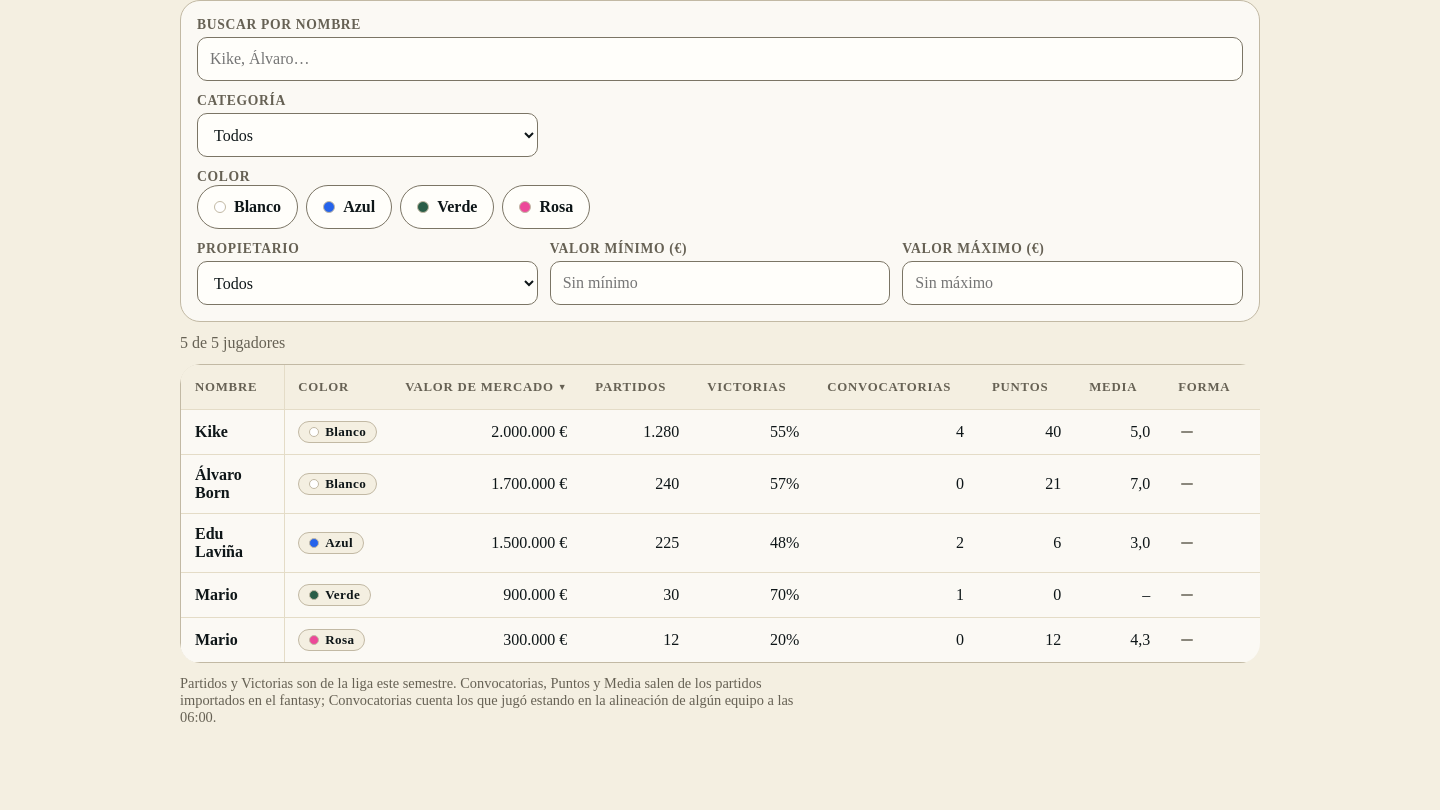
Test: PlayersTable › sorting: first click uses the natural direction, second reverses, aria-sort follows
Click the button "Nombre". click: [233, 387]
box: [181,365,284,409]
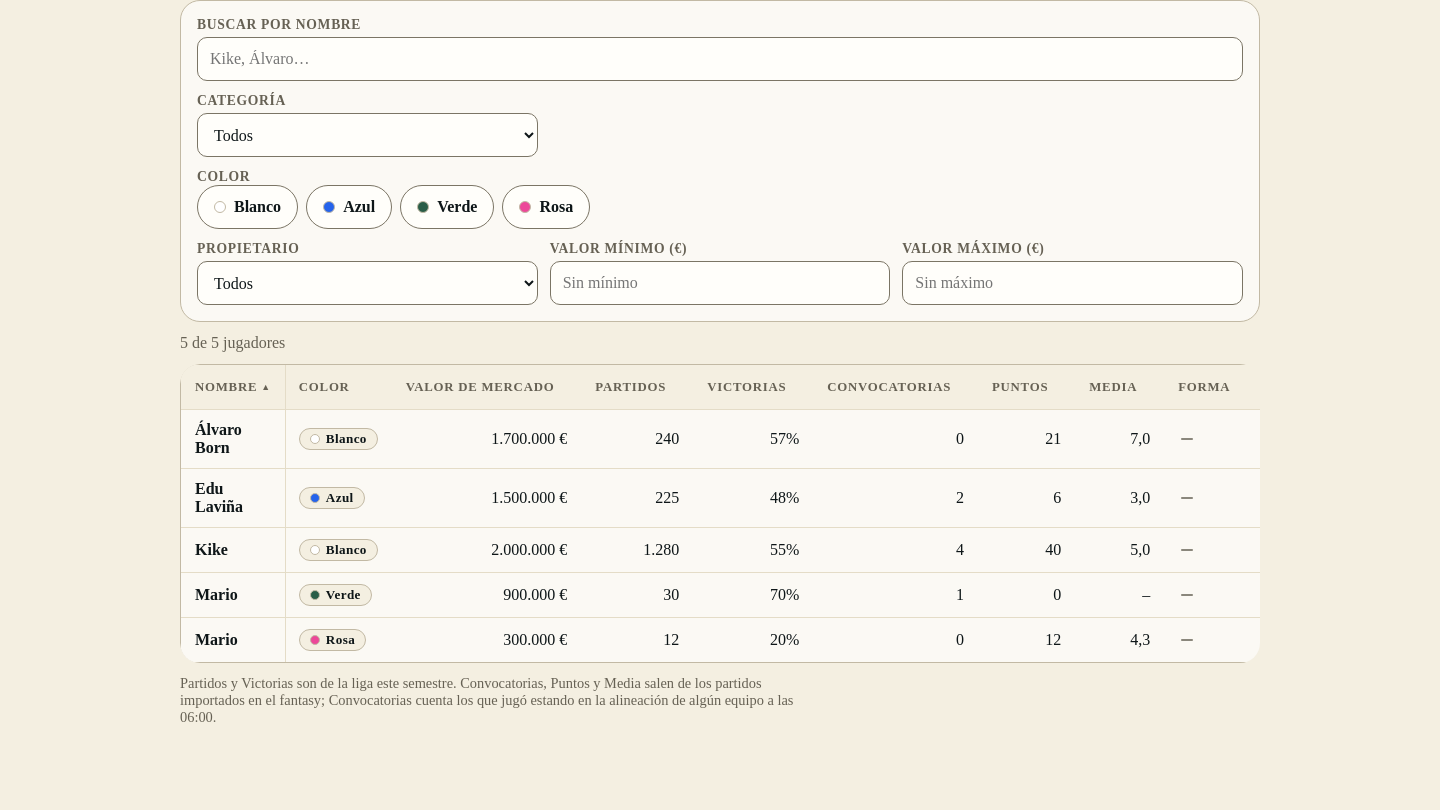
Click the button "Nombre ▲". click: [233, 387]
box: [181,365,285,409]
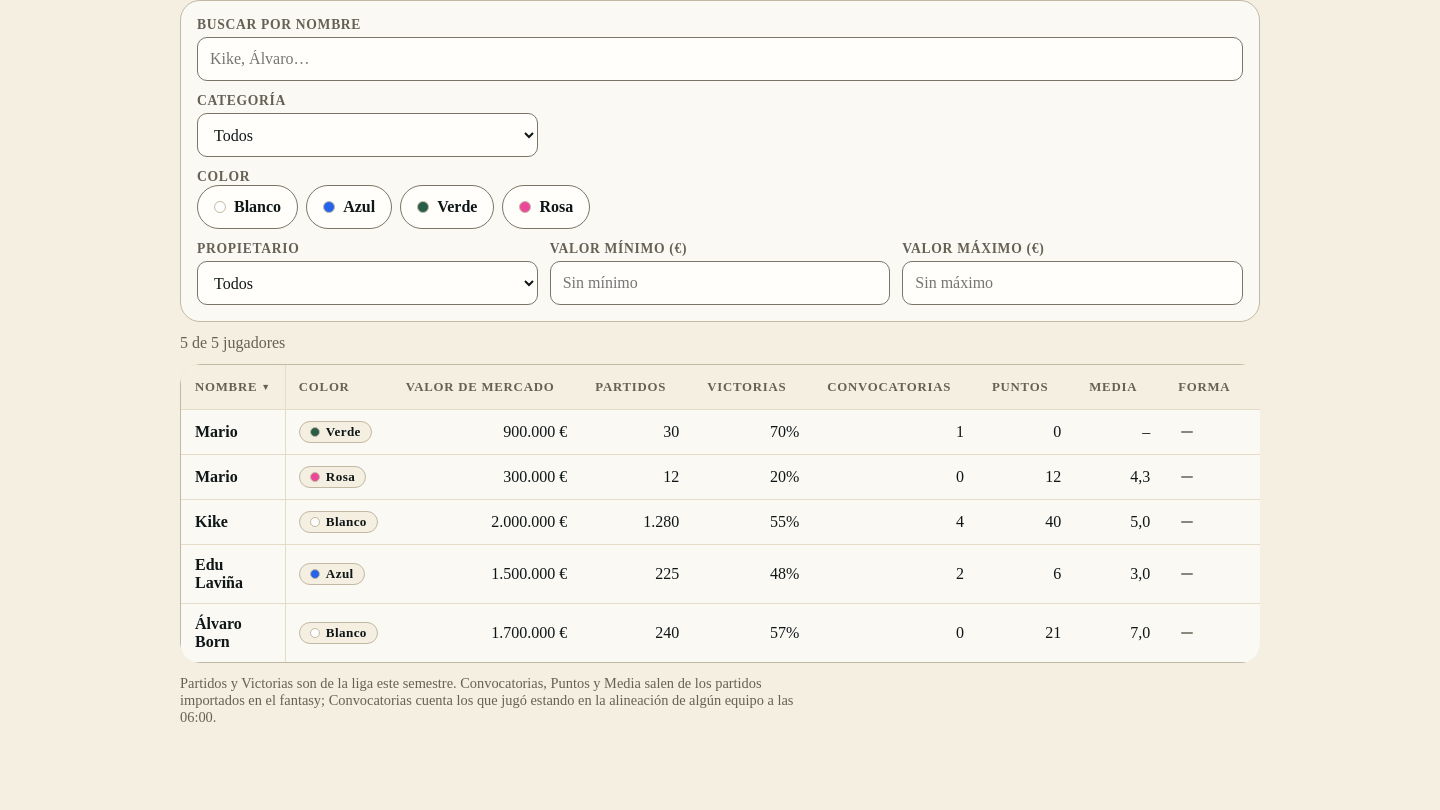
Expected: the cell "Mario" in the row of "900.000 €" is shown, [195,423,238,440]
Result: the column heading "Valor de mercado" has attribute aria-sort="none" at [392,365,581,410]
